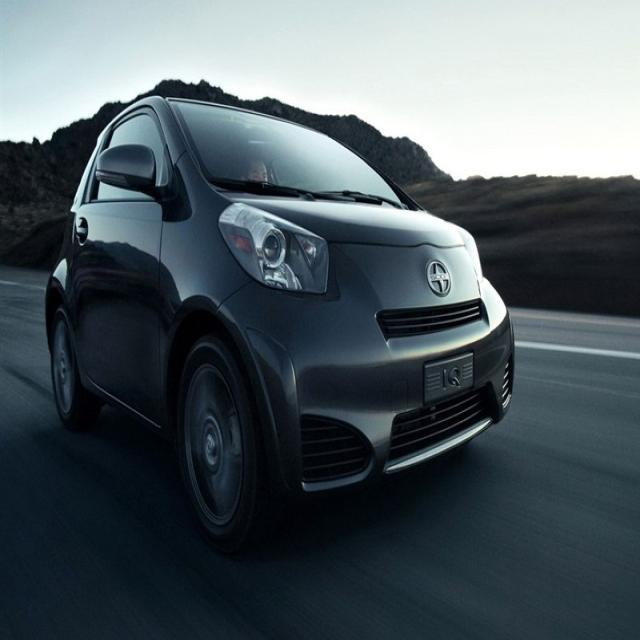front_bumper: (212, 237, 518, 508)
front_glass: (163, 95, 409, 211)
front_left_side_light: (462, 224, 482, 286)
front_right_side_door: (72, 103, 175, 433)
front_right_side_light: (215, 201, 330, 295)
front_right_side_mirror: (94, 143, 168, 202)
wheel: (177, 336, 271, 543), (51, 294, 104, 424)
